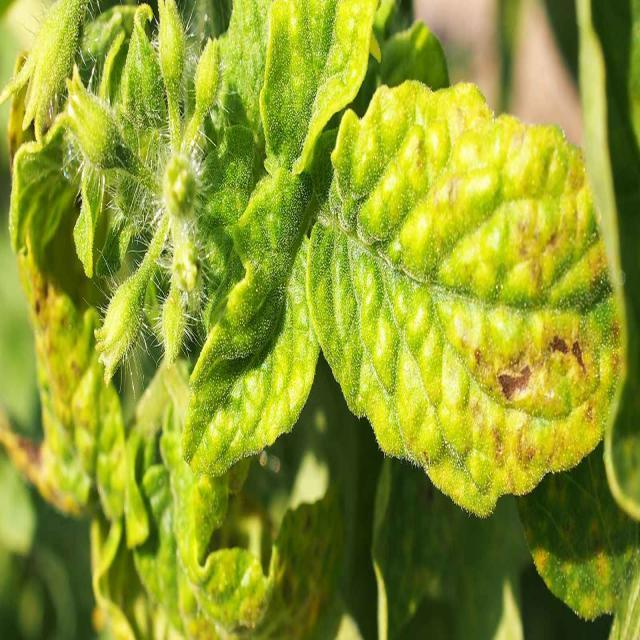Yellow Curl Virus: (309, 70, 620, 525), (178, 177, 321, 479), (256, 0, 371, 174), (5, 105, 77, 269)
